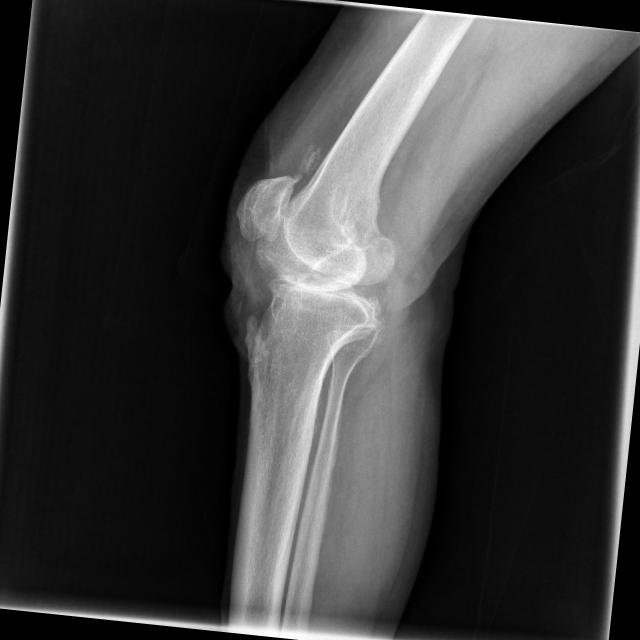Knee: (219, 161, 404, 369)
